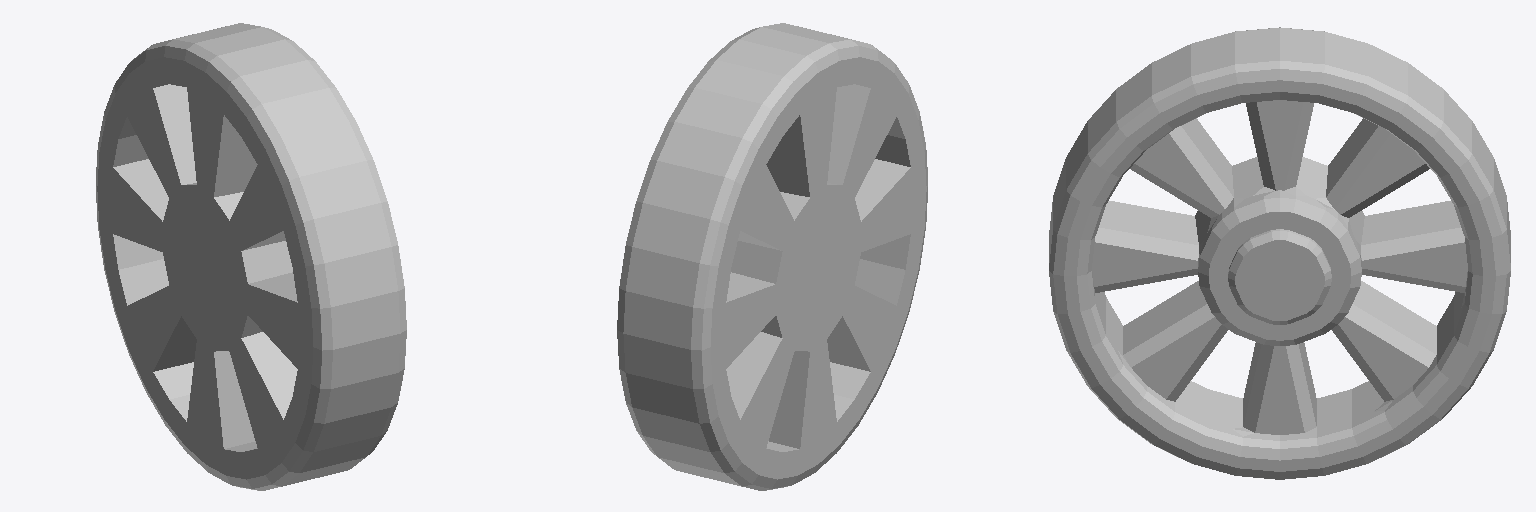
File: roue_loco.obj
3 views of the same model, side by side, from view 1: azimuth 30°, elevation 25°; view 2: azimuth 150°, elevation 25°; view 3: azimuth 270°, elevation 25° (orthographic).
Parts seen in each view (by area): view 1: roue; view 2: roue; view 3: roue.
Part boxes in pixels (bbox=[...]): roue: bbox=[96, 23, 406, 490]; roue: bbox=[617, 23, 927, 490]; roue: bbox=[1049, 27, 1510, 479].
Size of the model in its own units: 0.3931 by 1.55 by 1.55.